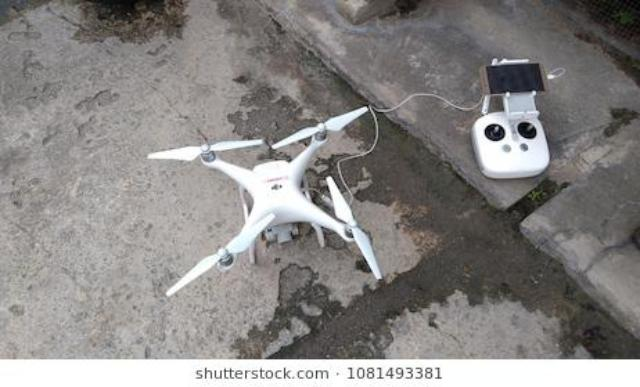drone: (130, 108, 422, 298)
